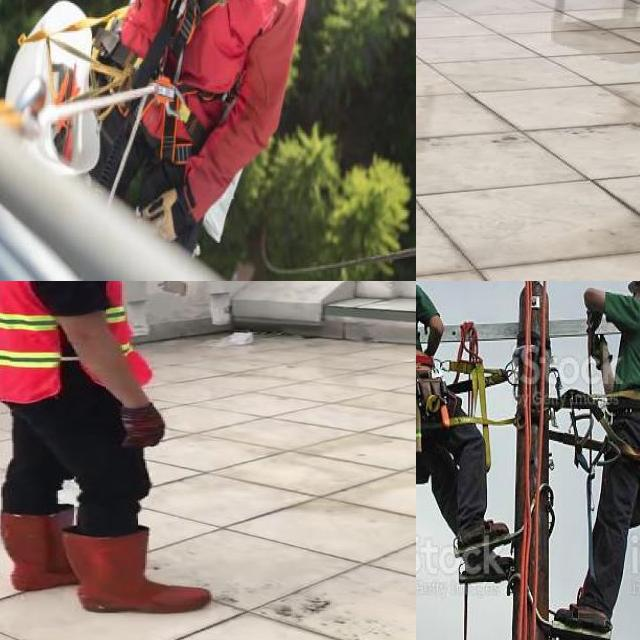Harness: (447, 322, 515, 468), (133, 0, 226, 88)
boots: (61, 524, 212, 613), (0, 510, 92, 590)
hand_glove: (115, 407, 168, 448)
person: (0, 281, 222, 618)
vest: (0, 281, 146, 400)
